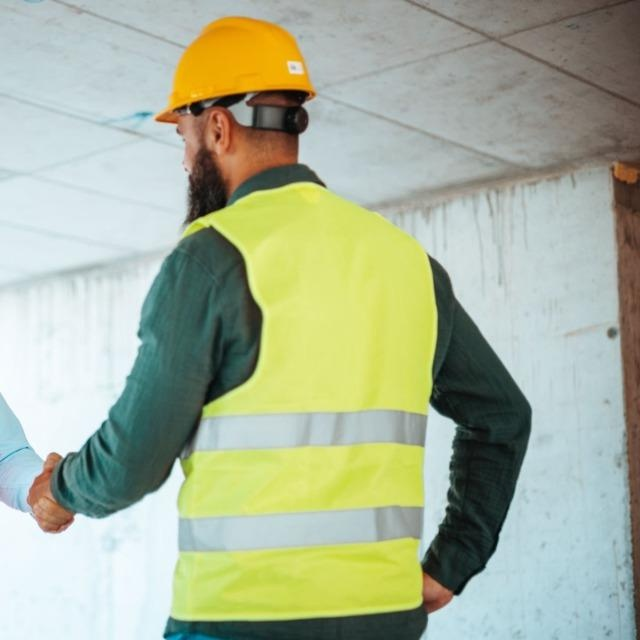Con_Chaleco: (163, 189, 441, 620)
